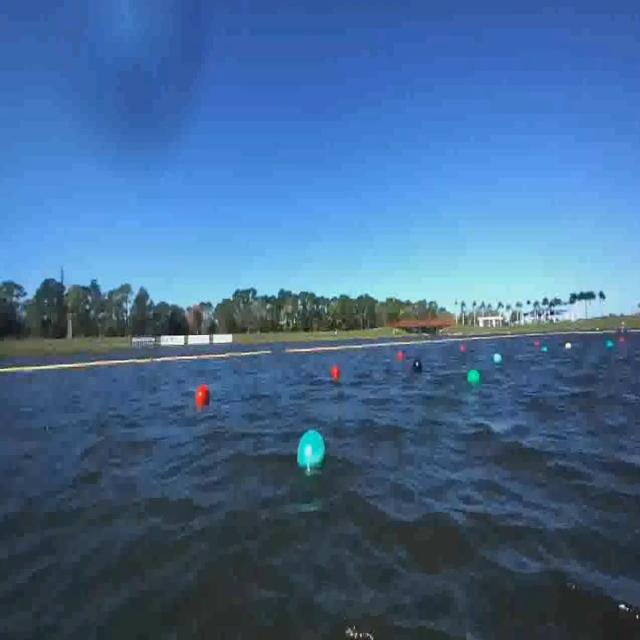black-buoy: (413, 358, 423, 372)
green-buoy: (298, 430, 327, 470), (470, 368, 482, 385), (493, 353, 502, 364)
red-buoy: (198, 382, 213, 406), (330, 365, 339, 378)
